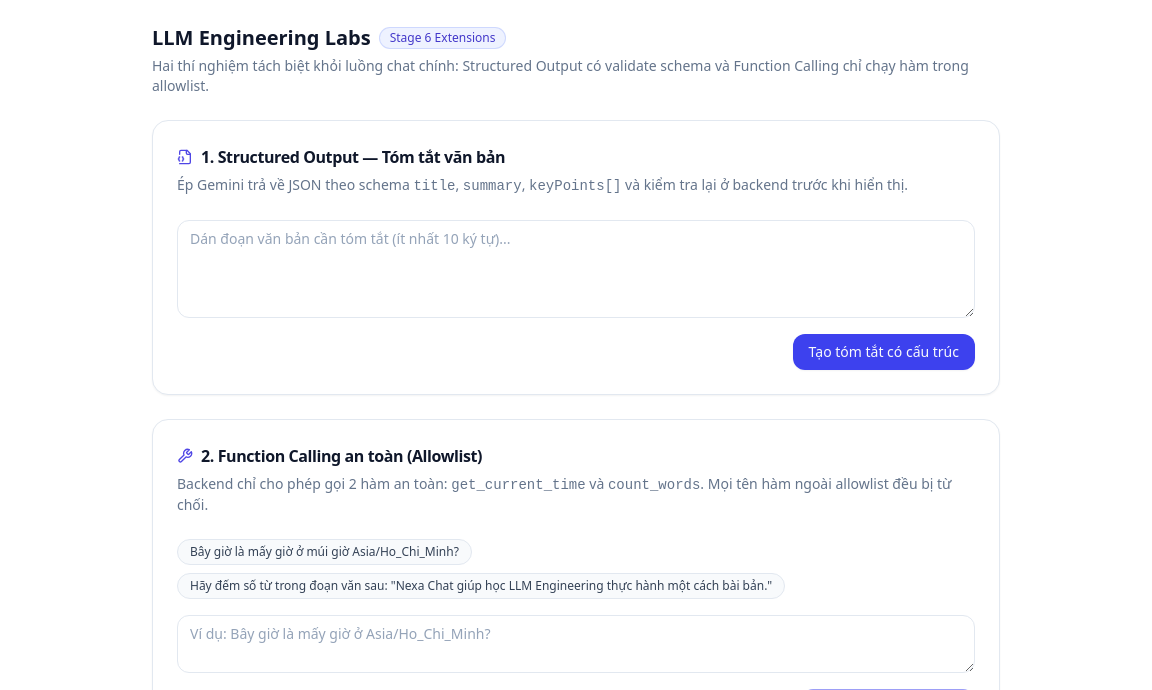
Test: LlmLabsPanel › displays tool execution status badges and final answer for Function Calling
Type "Mấy giờ rồi?" into the text box named "Prompt thử nghiệm Function Calling". click: (576, 644)
box: [177, 615, 975, 673]
(page scrolled)
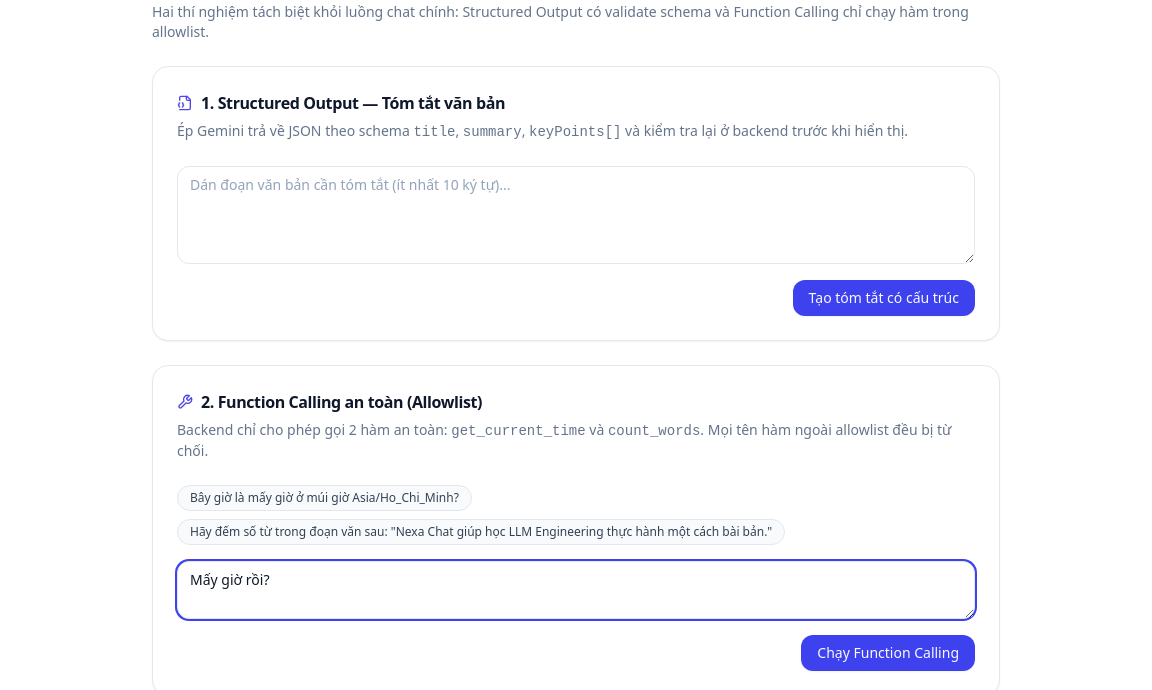
Click the button "Chạy Function Calling". click: (888, 653)
box: [801, 635, 975, 671]
(page scrolled)
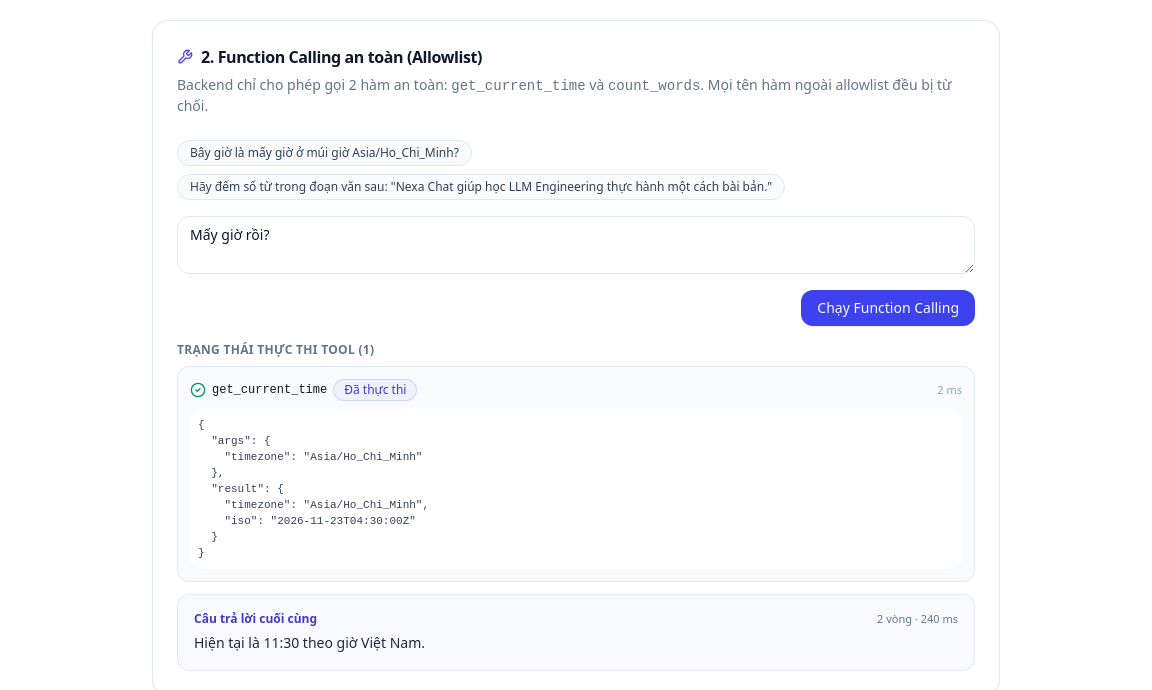
Expected: the text "Đã thực thi" is shown, [333, 379, 417, 401]
Expected: the text "Hiện tại là 11:30 theo giờ Việt Nam." is shown, [194, 632, 425, 652]
